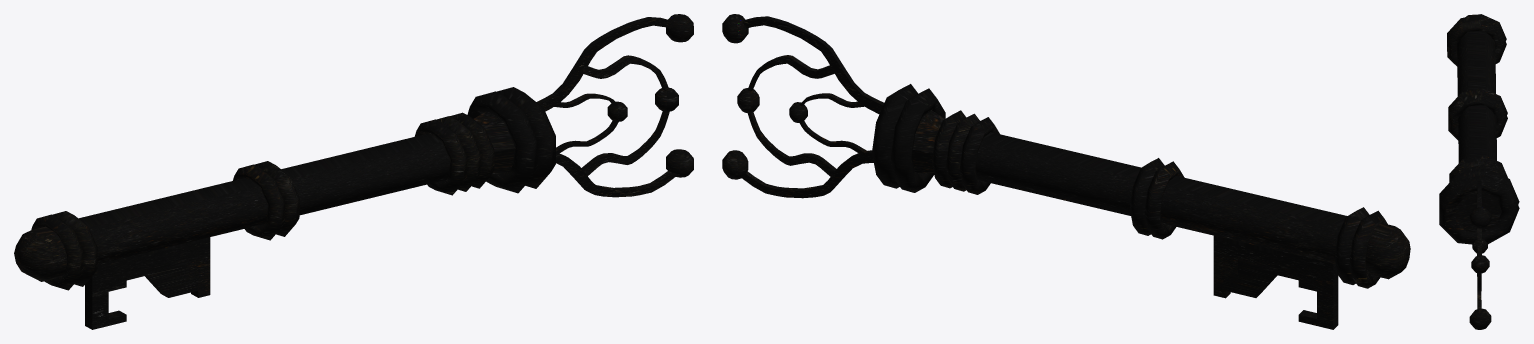
Rendered from Asylum_key.FBX.
3 views of the same model, side by side, from view 1: azimuth 30°, elevation 25°; view 2: azimuth 150°, elevation 25°; view 3: azimuth 270°, elevation 25° (orthographic). The views are drawn at different scales.
Parts seen in each view (by area): view 1: Box009; view 2: Box009; view 3: Box009.
Boxes of the visible parts, box(x1,y1,x2,y2) form: Box009: box(14, 14, 693, 329); Box009: box(722, 14, 1410, 329); Box009: box(1439, 14, 1519, 329).
Bounding box in the file's own units: 7.76 × 1.91 × 1.07.
